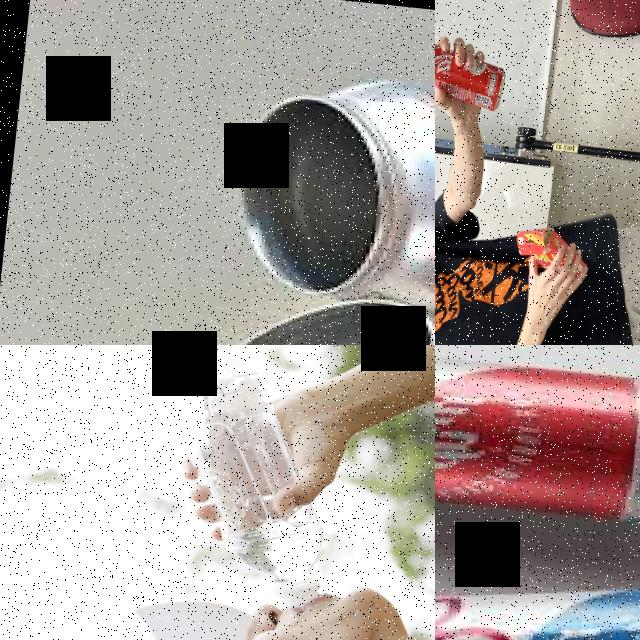bottle: (155, 360, 347, 614)
can: (230, 58, 435, 331), (435, 345, 640, 524), (435, 541, 640, 640), (435, 33, 511, 112)
